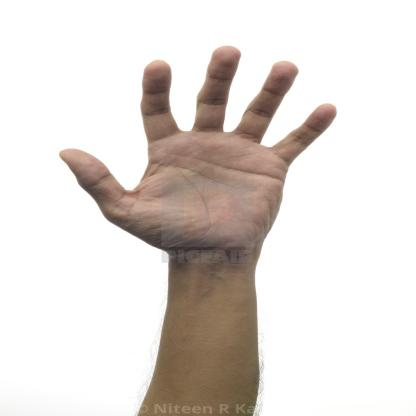palm: (56, 45, 338, 269)
